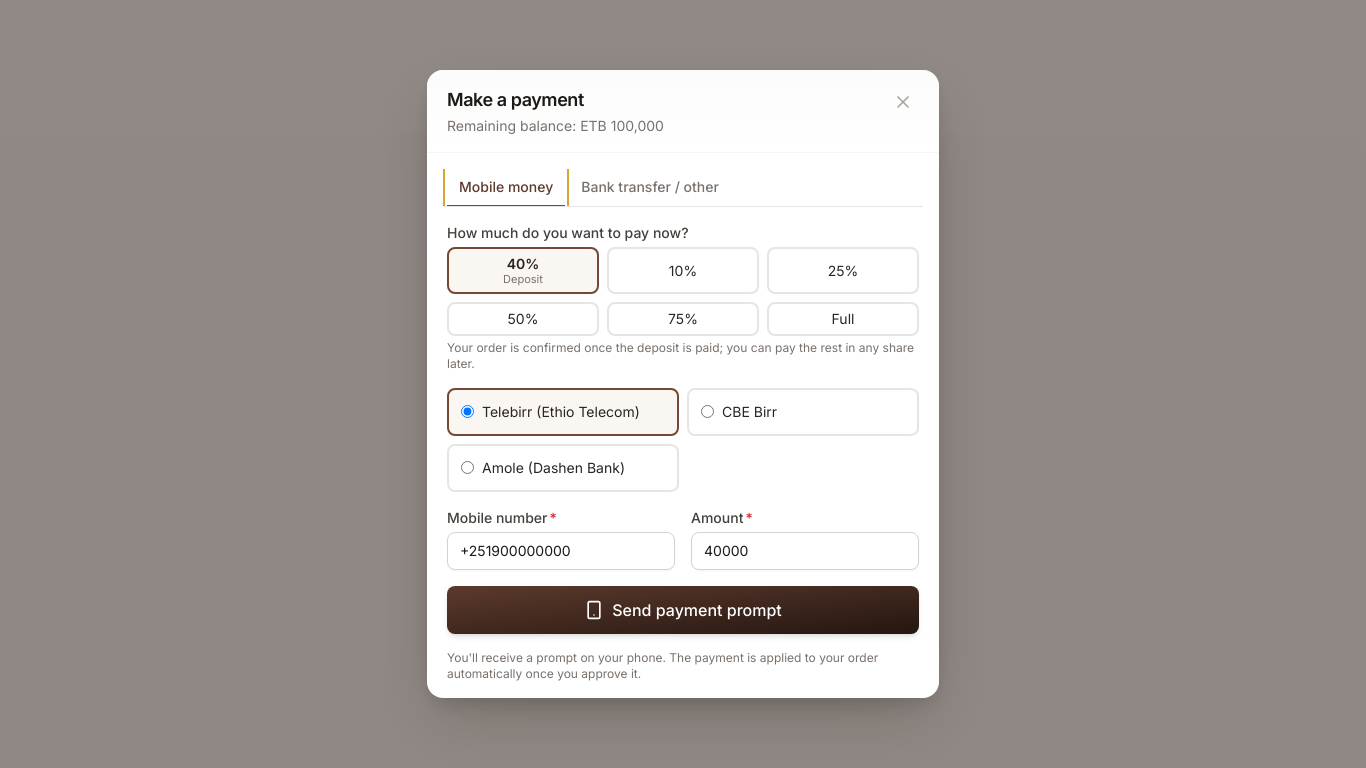
Test case: mobile money payment › sends a prompt and shows success once the provider confirms
Check: the tab "Mobile money" is shown, box [447,169,565,207]
Replace the text in the field labelled "Mobile number*" with "0913123456" at (561, 551), box [447,532,675,570]
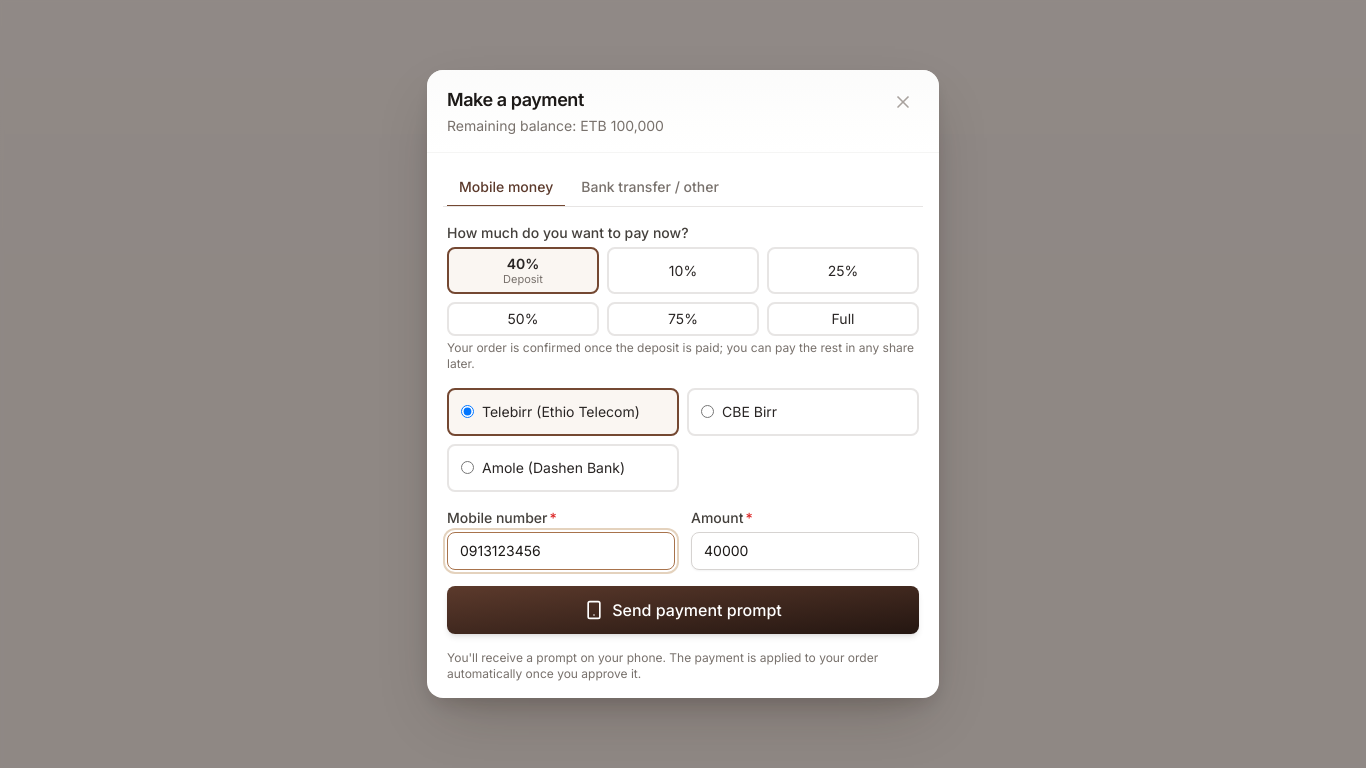
Click the button "Send payment prompt" at (683, 610), box [447,586,919,634]
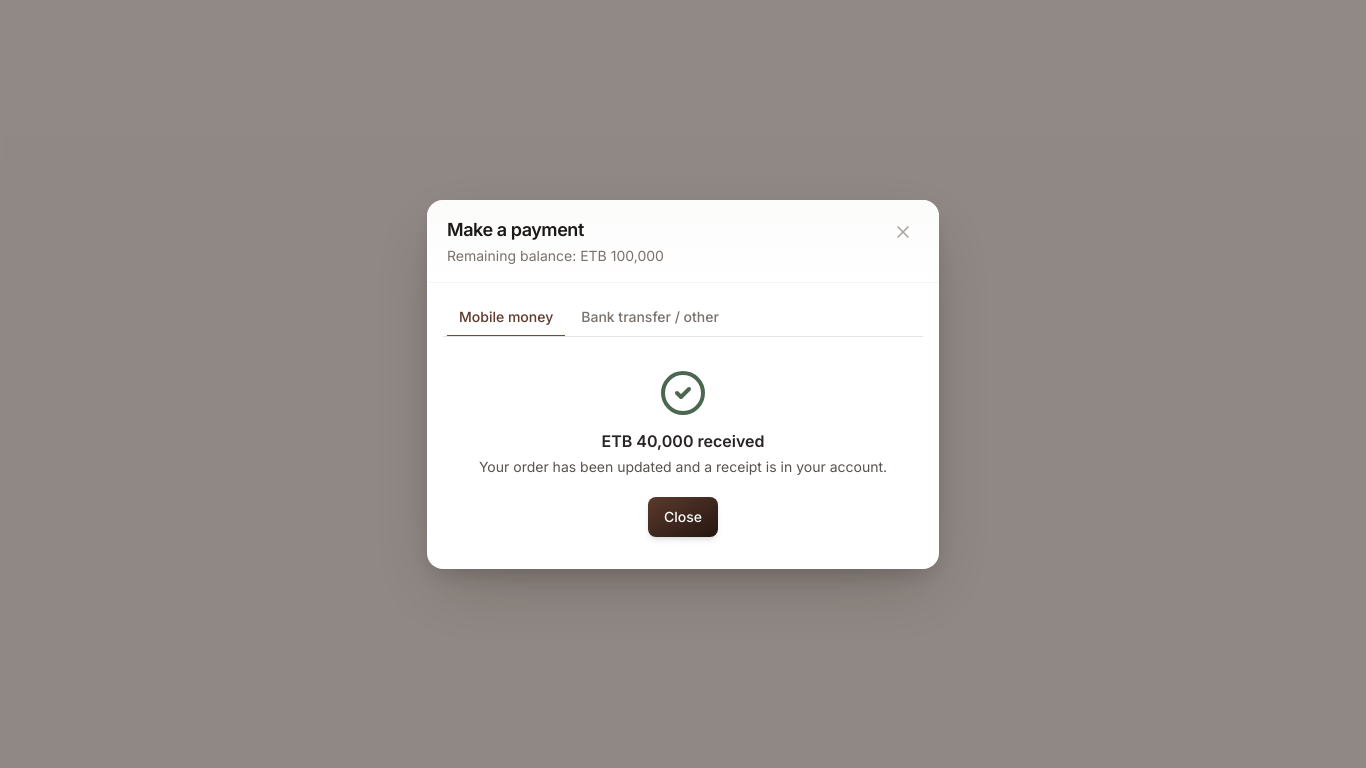
Check: the text "ETB 40,000 received" is shown, box [602,430,764,450]
